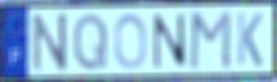K: (235, 11, 264, 69)
M: (188, 9, 233, 71)
N: (31, 11, 69, 74), (151, 12, 189, 70)
O: (113, 12, 149, 71)
Q: (71, 11, 109, 73)
